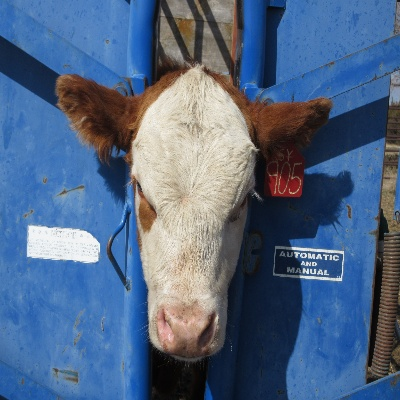fidget_spinner: (153, 307, 226, 362)
